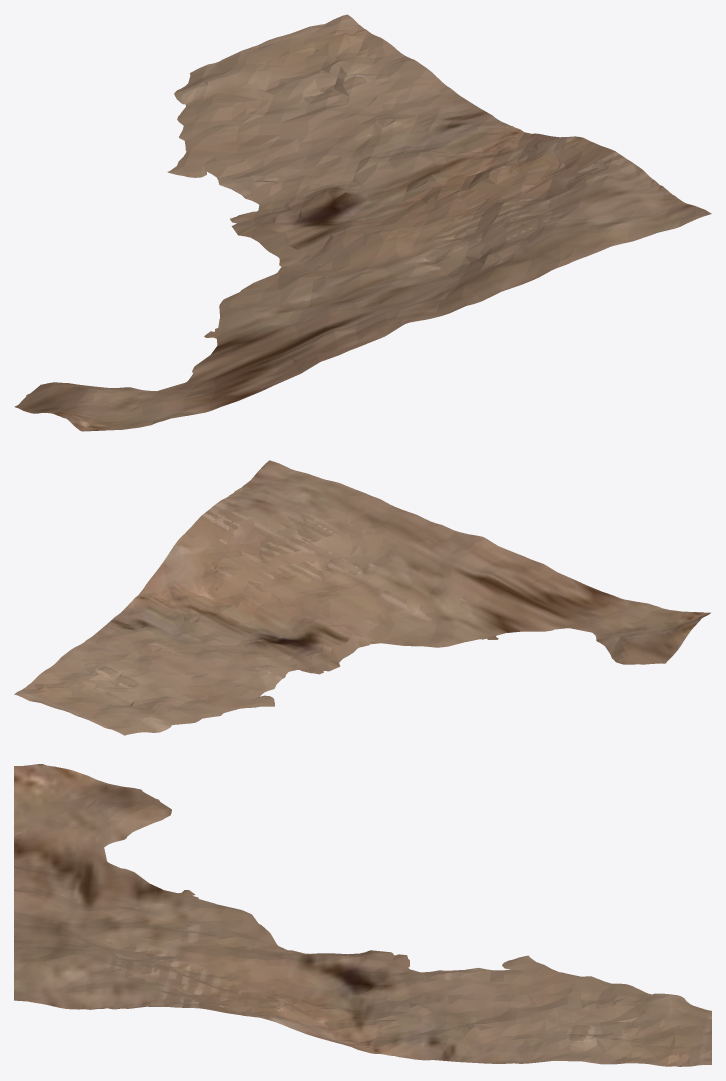
3 renders of one model, top to bottom at view 1: azimuth 30°, elevation 25°; view 2: azimuth 150°, elevation 25°; view 3: azimuth 270°, elevation 25°, orthographic. The views are drawn at different scales.
Bounding box in the file's own units: 1.04 × 0.1386 × 1.04.
Materials: 2 (2 with a texture image).
